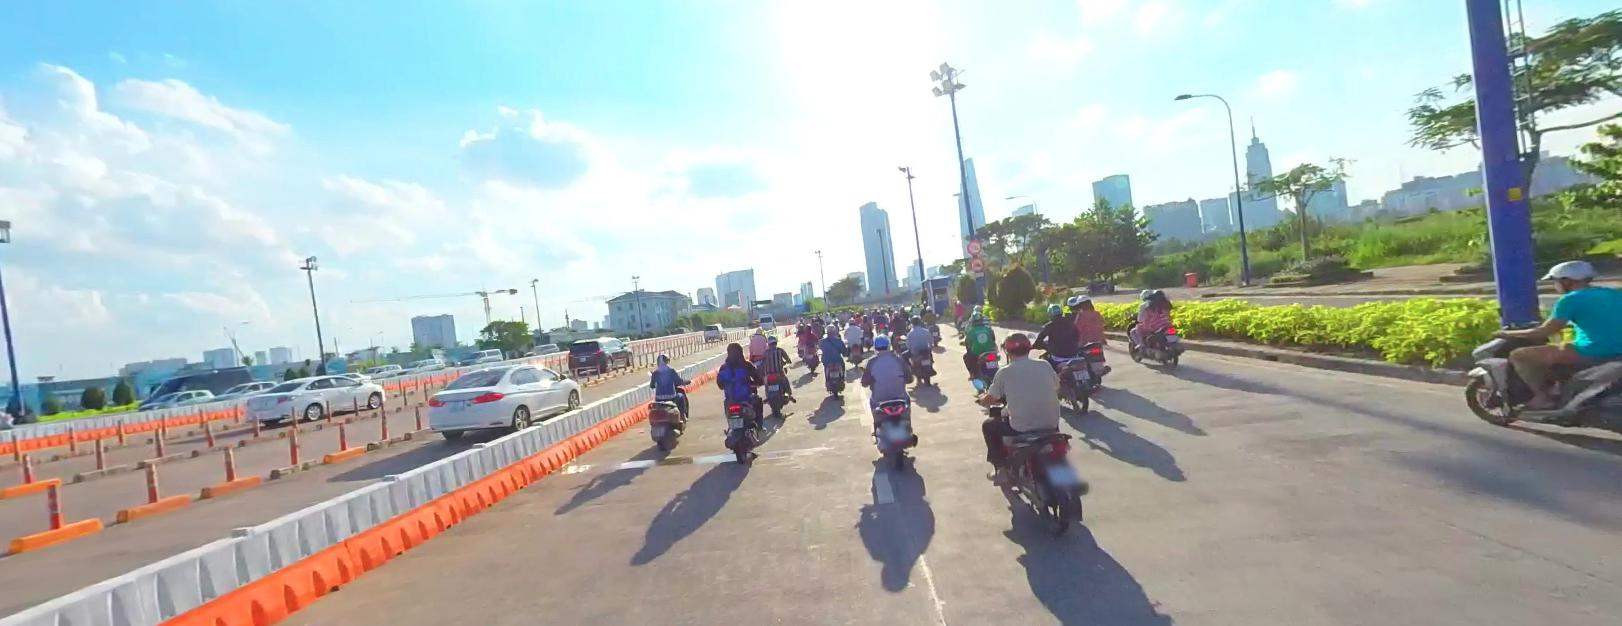Cam con lai: (967, 238, 981, 253), (969, 256, 984, 270)
